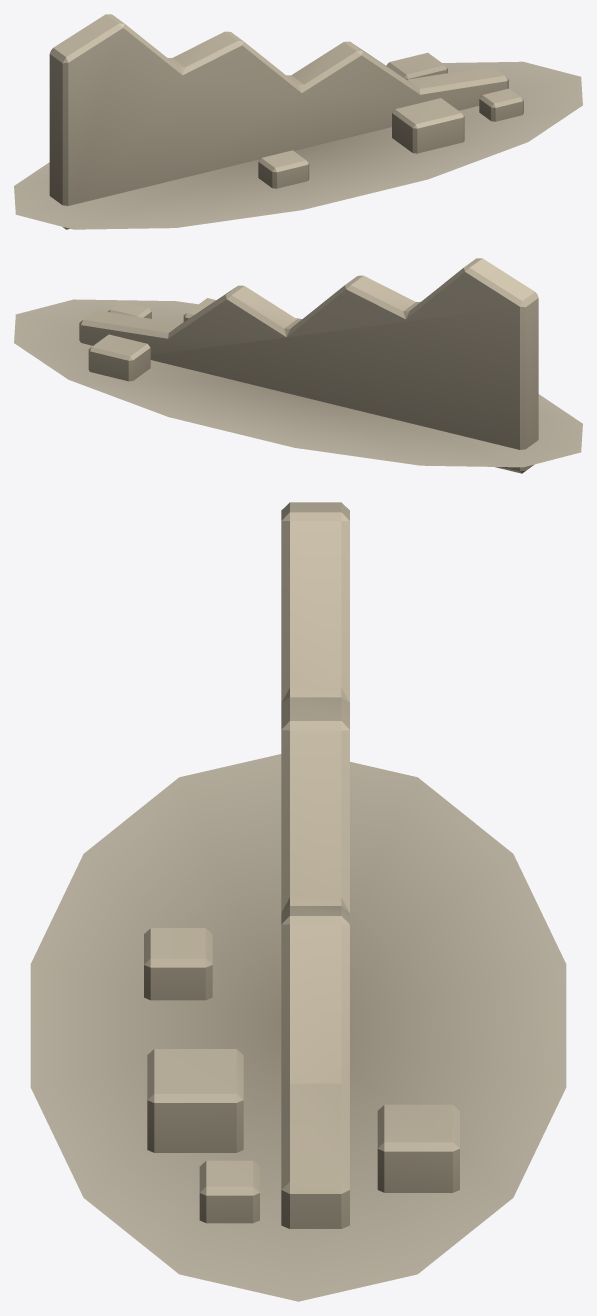
Rendered from ruin_wall.glb.
The picture shows the model from 3 angles, top to bottom: view 1: azimuth 30°, elevation 25°; view 2: azimuth 150°, elevation 25°; view 3: azimuth 270°, elevation 25°; orthographic projection. The views are drawn at different scales.
Parts seen in each view (by area): view 1: ruin_wall; view 2: ruin_wall; view 3: ruin_wall.
Boxes of the visible parts, bbox=[...] form: ruin_wall: bbox=[14, 14, 582, 229]; ruin_wall: bbox=[14, 258, 582, 473]; ruin_wall: bbox=[30, 502, 566, 1301].
Size of the model in its own units: 7.6 by 2.48 by 3.12.
